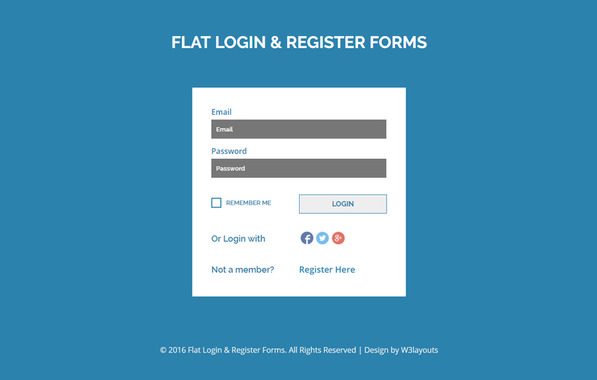_form_: (1, 1, 416, 380)
button: (297, 193, 387, 215)
checkbox: (210, 196, 222, 208)
checkbox_with_label: (207, 194, 273, 210)
field: (210, 158, 387, 180), (209, 118, 388, 139)
field_with_label: (208, 107, 389, 141), (209, 147, 389, 181)
